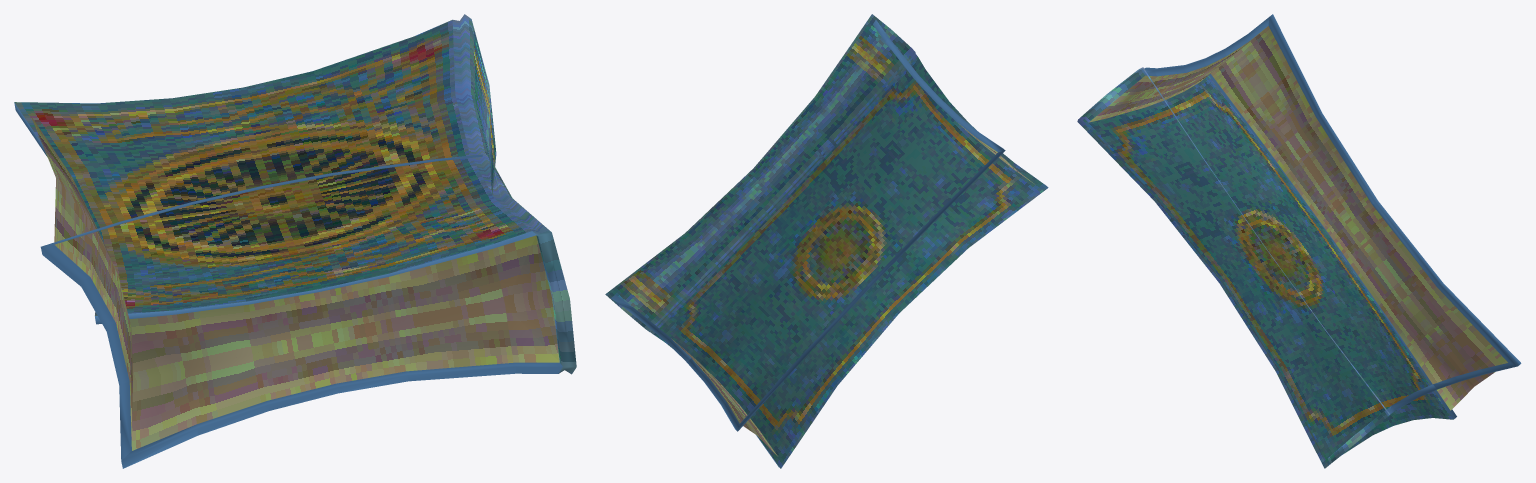
Rendered from ps2_save-icons_bakufuuslashkiznaarashi.glb.
3 views of the same model, side by side, from view 1: azimuth 30°, elevation 25°; view 2: azimuth 150°, elevation 25°; view 3: azimuth 270°, elevation 25° (orthographic). The views are drawn at different scales.
Parts seen in each view (by area): view 1: kizna.ico; view 2: kizna.ico; view 3: kizna.ico.
Part boxes in pixels (<box>): kizna.ico: <box>14,14,576,468</box>; kizna.ico: <box>605,14,1048,468</box>; kizna.ico: <box>1077,14,1521,468</box>.
Size of the model in its own units: 4.73 by 4.26 by 4.52.
Materials: 1 (1 with a texture image).
